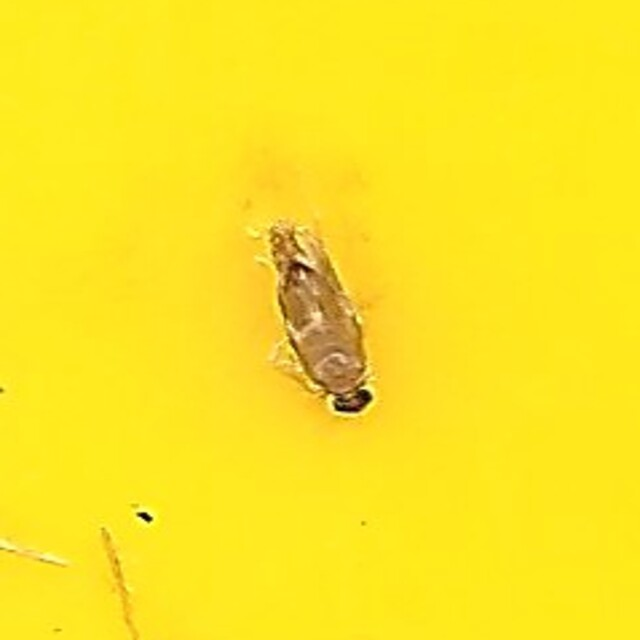Trichoptera: (268, 220, 372, 420)
